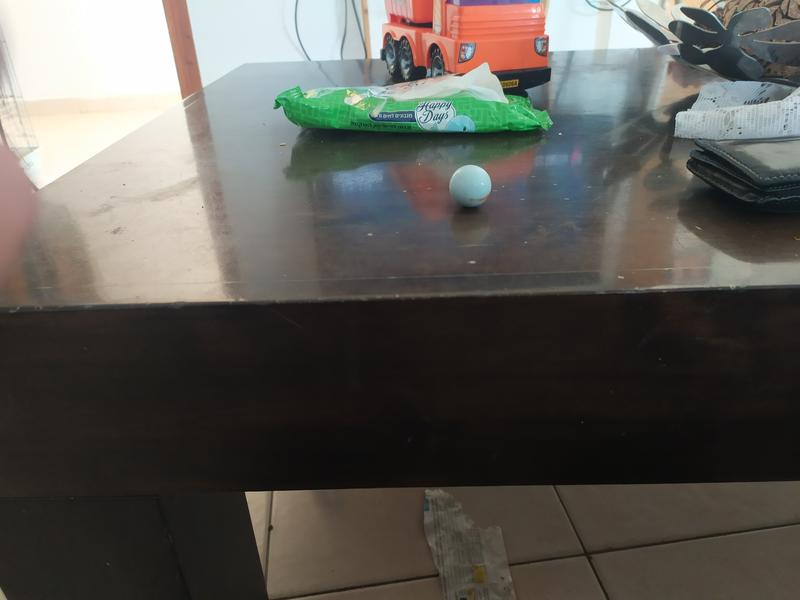Warning: (447, 163, 494, 210)
